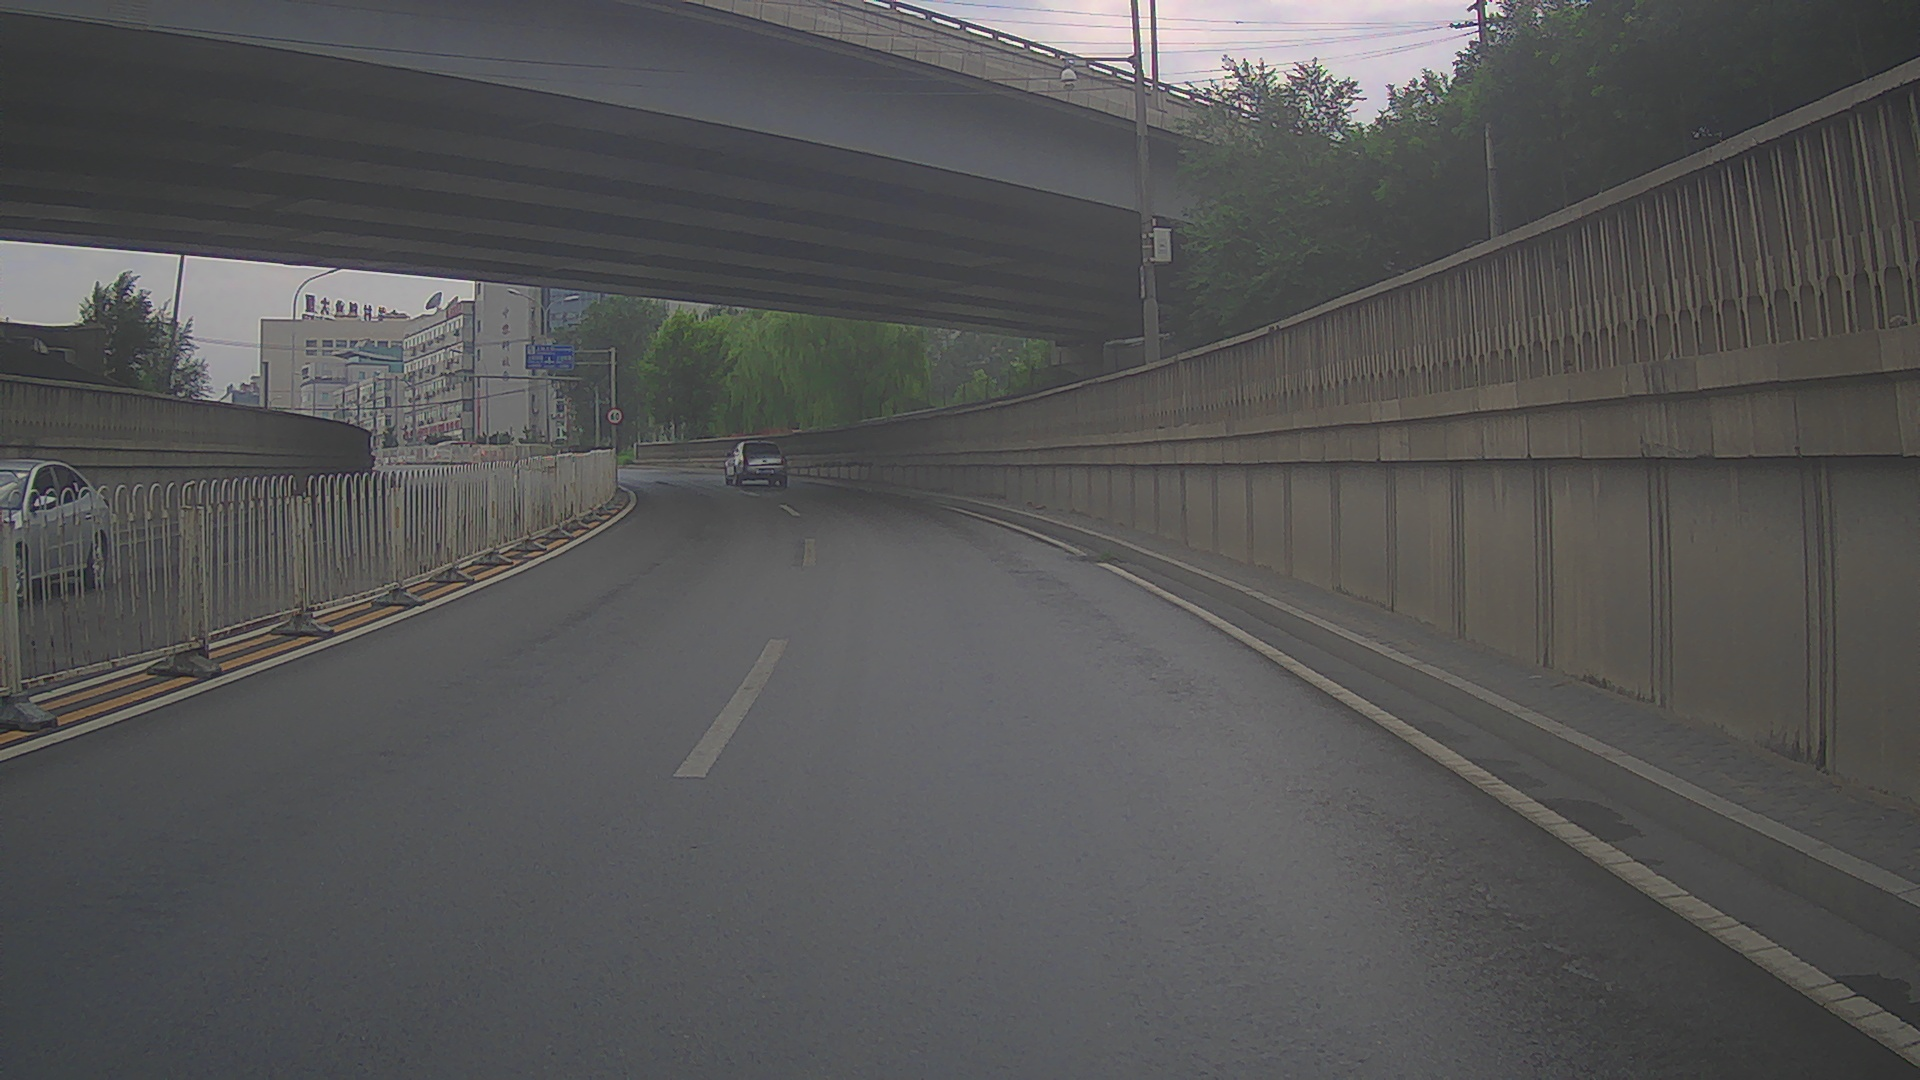car: (1, 457, 114, 607), (723, 440, 788, 488)
ignore: (433, 440, 503, 463), (551, 436, 568, 452)
pedestrian: (599, 431, 612, 456)
